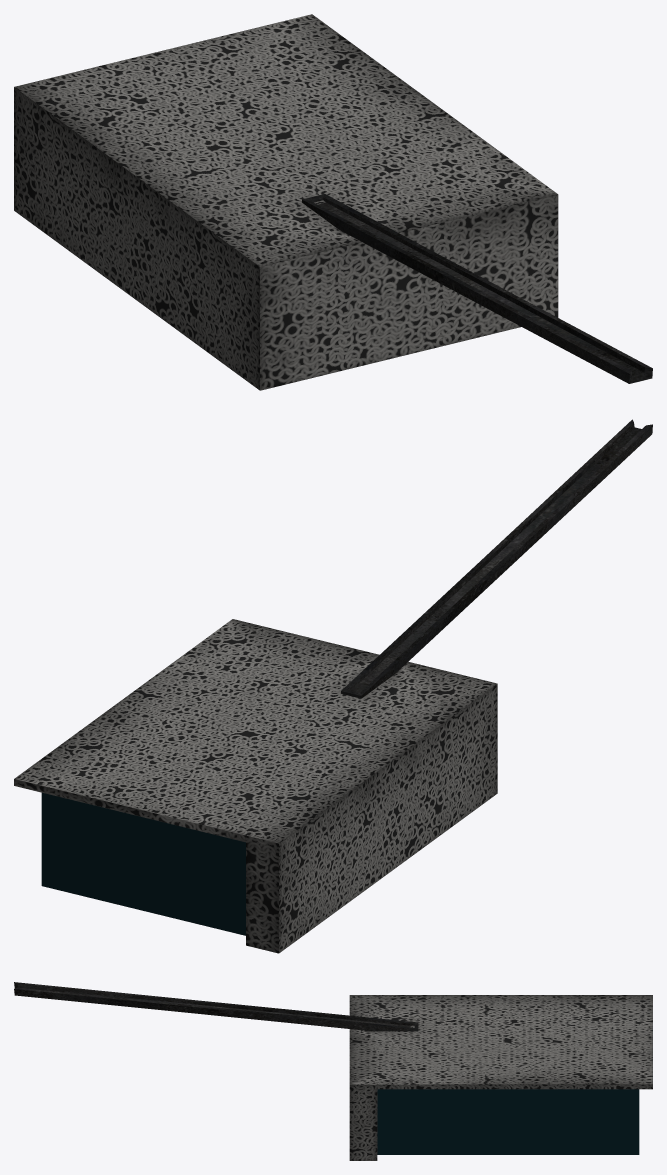
The model's file is Bat_Port_2.fbx.
The picture shows the model from 3 angles, top to bottom: view 1: azimuth 30°, elevation 25°; view 2: azimuth 150°, elevation 25°; view 3: azimuth 270°, elevation 25°; orthographic projection. The views are drawn at different scales.
Visible parts, largest first — view 1: Bat_Port_2; view 2: Bat_Port_2; view 3: Bat_Port_2.
Part boxes in pixels (x1,y1,x2,y2): Bat_Port_2: (14,14,652,390); Bat_Port_2: (14,419,652,953); Bat_Port_2: (14,982,652,1160).
Size of the model in its own units: 2204 by 1358 by 6638.
